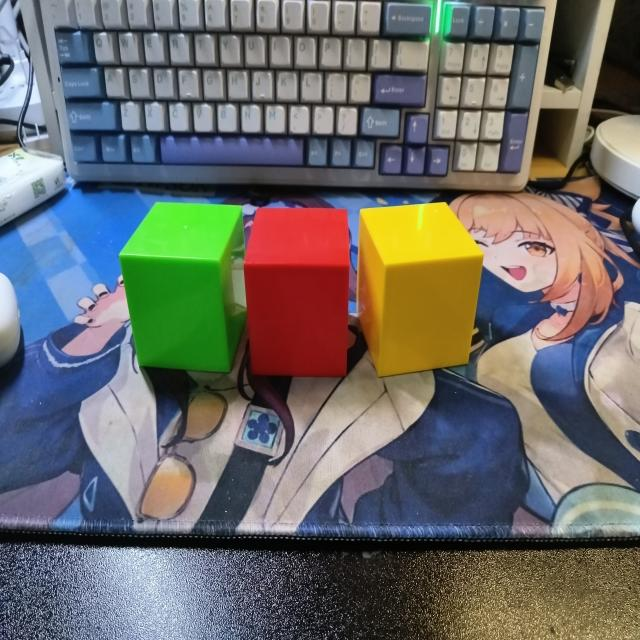green: (116, 199, 252, 382)
red: (242, 204, 350, 383)
yellow: (359, 204, 485, 380)
